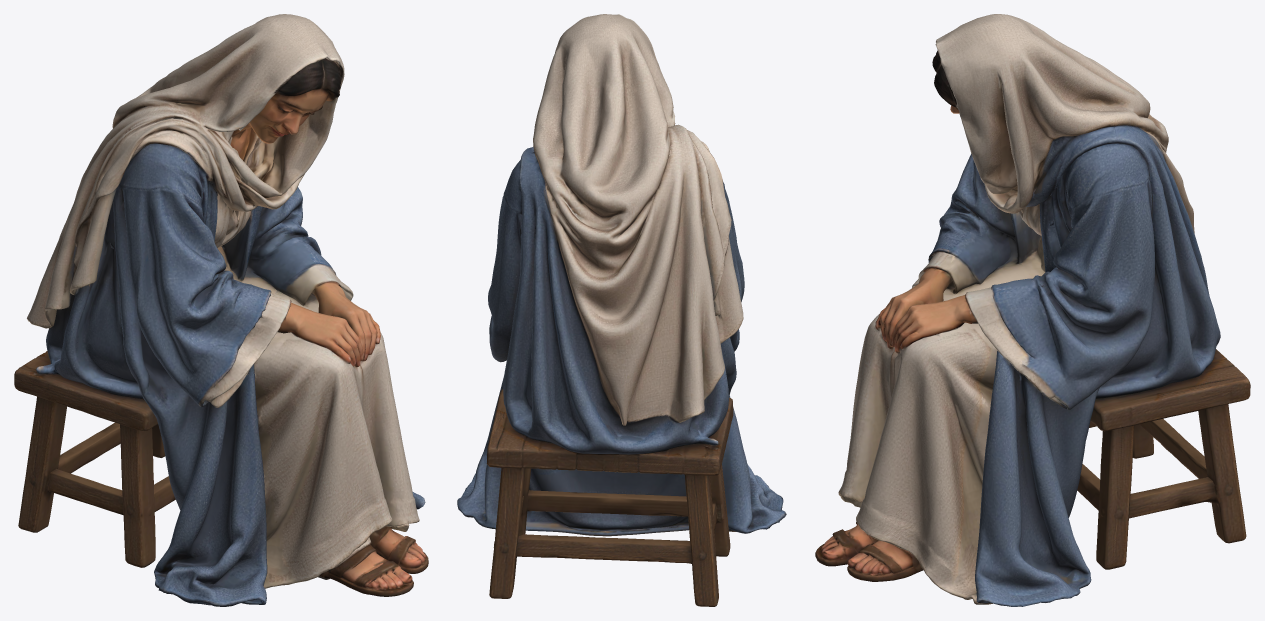
Rendered from mary-seated-tripo-runtime.glb.
3 views of the same model, side by side, from view 1: azimuth 30°, elevation 25°; view 2: azimuth 150°, elevation 25°; view 3: azimuth 270°, elevation 25° (orthographic). The views are drawn at different scales.
Parts seen in each view (by area): view 1: tripo_node_3832b6df-8835-4b05-adf1-bf380301f15e; view 2: tripo_node_3832b6df-8835-4b05-adf1-bf380301f15e; view 3: tripo_node_3832b6df-8835-4b05-adf1-bf380301f15e.
Part boxes in pixels (x1,y1,x2,y2): tripo_node_3832b6df-8835-4b05-adf1-bf380301f15e: [14, 14, 428, 606]; tripo_node_3832b6df-8835-4b05-adf1-bf380301f15e: [457, 14, 786, 606]; tripo_node_3832b6df-8835-4b05-adf1-bf380301f15e: [815, 14, 1250, 606].
Bounding box in the file's own units: 0.833 × 1.25 × 0.9346.
Materials: 1 (1 with a texture image).
